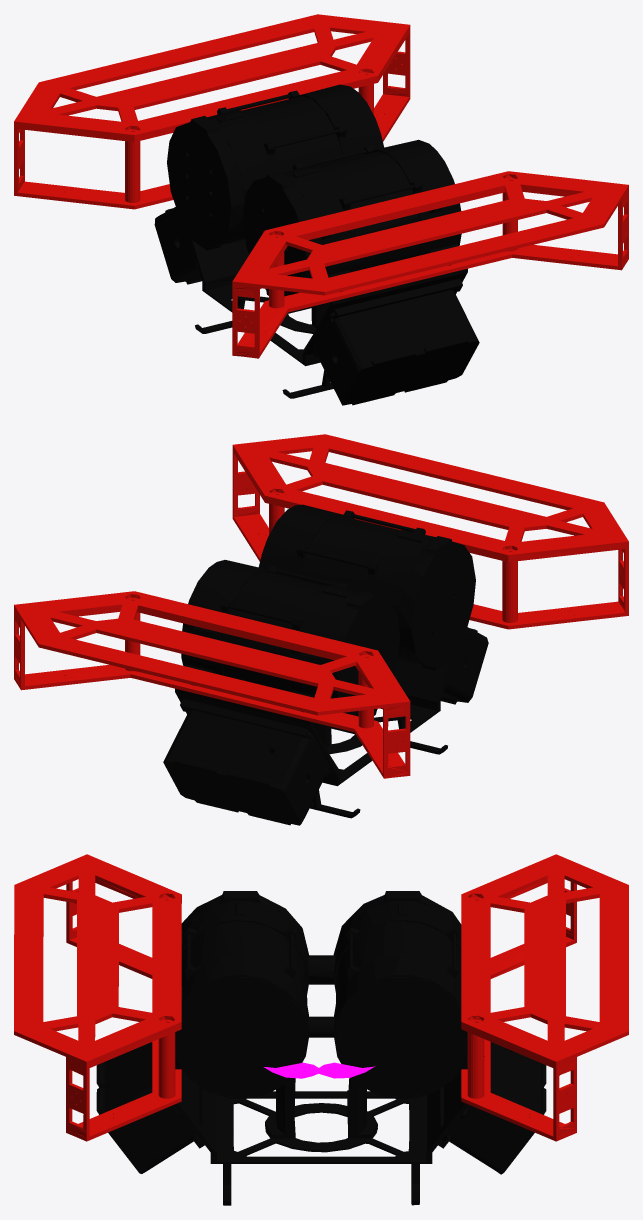
File: Tempest.dae
3 views of the same model, one above another, from view 1: azimuth 30°, elevation 25°; view 2: azimuth 150°, elevation 25°; view 3: azimuth 270°, elevation 25° (orthographic). The views are drawn at different scales.
Parts seen in each view (by area): view 1: simplify Pohatu(4).001, simplify Pohatu(4).018, simplify Pohatu(4).014, simplify Pohatu(4).006, simplify Pohatu(4).005, simplify Pohatu(4).015, simplify Pohatu(4).011, simplify Pohatu(4).010, simplify Pohatu(4).002, simplify Pohatu(4).017, simplify Pohatu(4).019; view 2: simplify Pohatu(4).018, simplify Pohatu(4).001, simplify Pohatu(4).015, simplify Pohatu(4).005, simplify Pohatu(4).006, simplify Pohatu(4).010, simplify Pohatu(4).011, simplify Pohatu(4).014, simplify Pohatu(4).019, simplify Pohatu(4).003, simplify Pohatu(4).002; view 3: simplify Pohatu(4).001, simplify Pohatu(4).018, simplify Pohatu(4).015, simplify Pohatu(4).013, simplify Pohatu(4).012, simplify Pohatu(4).005, simplify Pohatu(4).014, simplify Pohatu(4).006, simplify Pohatu(4).010, simplify Pohatu(4).011, simplify Pohatu(4), simplify Pohatu(4).016 (+1 smaller).
Boxes of the visible parts, left/top/right/bottom form: simplify Pohatu(4).001: left=232, top=171, right=628, bottom=358; simplify Pohatu(4).018: left=14, top=14, right=410, bottom=209; simplify Pohatu(4).014: left=303, top=268, right=479, bottom=405; simplify Pohatu(4).006: left=167, top=84, right=384, bottom=250; simplify Pohatu(4).005: left=242, top=139, right=461, bottom=296; simplify Pohatu(4).015: left=154, top=207, right=333, bottom=398; simplify Pohatu(4).011: left=317, top=151, right=420, bottom=271; simplify Pohatu(4).010: left=242, top=96, right=343, bottom=172; simplify Pohatu(4).002: left=232, top=288, right=259, bottom=355; simplify Pohatu(4).017: left=125, top=141, right=140, bottom=202; simplify Pohatu(4).019: left=14, top=128, right=24, bottom=192; simplify Pohatu(4).018: left=14, top=591, right=410, bottom=778; simplify Pohatu(4).001: left=232, top=434, right=628, bottom=629; simplify Pohatu(4).015: left=163, top=688, right=447, bottom=825; simplify Pohatu(4).005: left=258, top=504, right=475, bottom=670; simplify Pohatu(4).006: left=181, top=560, right=400, bottom=716; simplify Pohatu(4).010: left=222, top=571, right=325, bottom=691; simplify Pohatu(4).011: left=299, top=516, right=400, bottom=592; simplify Pohatu(4).014: left=394, top=627, right=488, bottom=711; simplify Pohatu(4).019: left=383, top=708, right=410, bottom=775; simplify Pohatu(4).003: left=502, top=561, right=517, bottom=622; simplify Pohatu(4).002: left=618, top=548, right=628, bottom=612; simplify Pohatu(4).001: left=14, top=854, right=181, bottom=1141; simplify Pohatu(4).018: left=461, top=854, right=628, bottom=1141; simplify Pohatu(4).015: left=214, top=1042, right=546, bottom=1205; simplify Pohatu(4).013: left=336, top=977, right=467, bottom=1097; simplify Pohatu(4).012: left=175, top=977, right=306, bottom=1096; simplify Pohatu(4).005: left=175, top=891, right=335, bottom=1098; simplify Pohatu(4).014: left=96, top=1042, right=215, bottom=1173; simplify Pohatu(4).006: left=333, top=891, right=484, bottom=1099; simplify Pohatu(4).010: left=336, top=921, right=461, bottom=1001; simplify Pohatu(4).011: left=181, top=921, right=307, bottom=1003; simplify Pohatu(4): left=264, top=1062, right=375, bottom=1078; simplify Pohatu(4).016: left=467, top=1032, right=484, bottom=1098.
Bounding box in the file's own units: 0.7447 × 0.932 × 0.3869.
